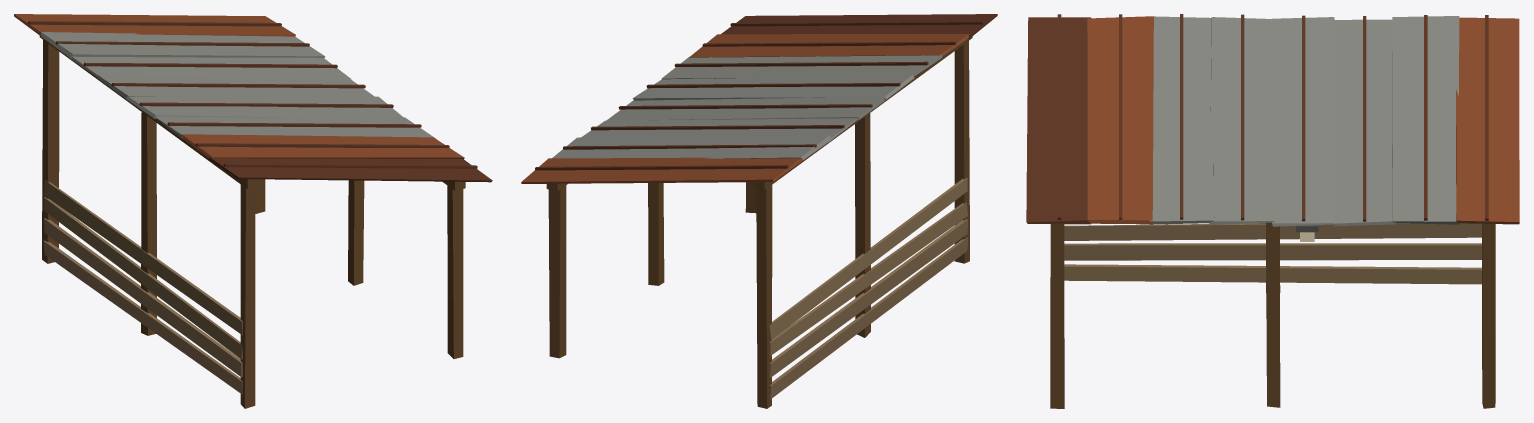
File: lean_to.glb
3 views of the same model, side by side, from view 1: azimuth 30°, elevation 25°; view 2: azimuth 150°, elevation 25°; view 3: azimuth 270°, elevation 25° (orthographic). The views are drawn at different scales.
Parts seen in each view (by area): view 1: lean_to; view 2: lean_to; view 3: lean_to.
Part boxes in pixels (box(x1,y1,x2,y2)): lean_to: box(14, 14, 492, 408); lean_to: box(521, 14, 997, 408); lean_to: box(1026, 14, 1519, 408).
Bounding box in the file's own units: 5.67 × 5.24 × 8.68.
